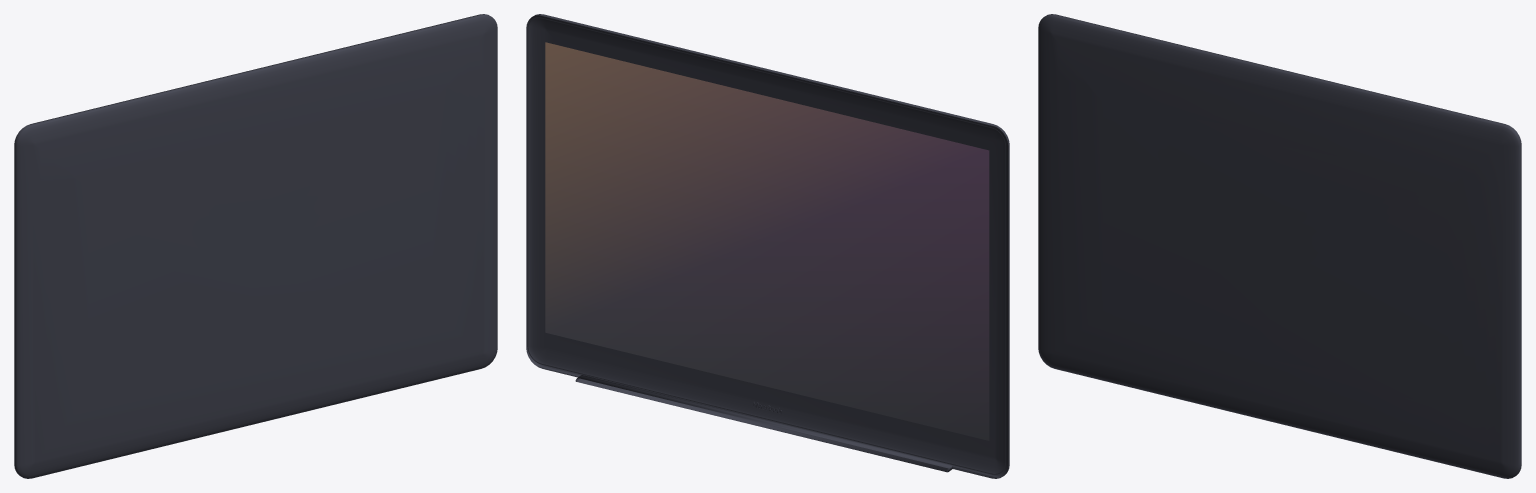
Rendered from monitor.obj.
The picture shows the model from 3 angles, left to right: view 1: azimuth 30°, elevation 25°; view 2: azimuth 150°, elevation 25°; view 3: azimuth 330°, elevation 25°; orthographic projection.
Size of the model in its own units: 0.2805 by 0.1965 by 0.0115.
